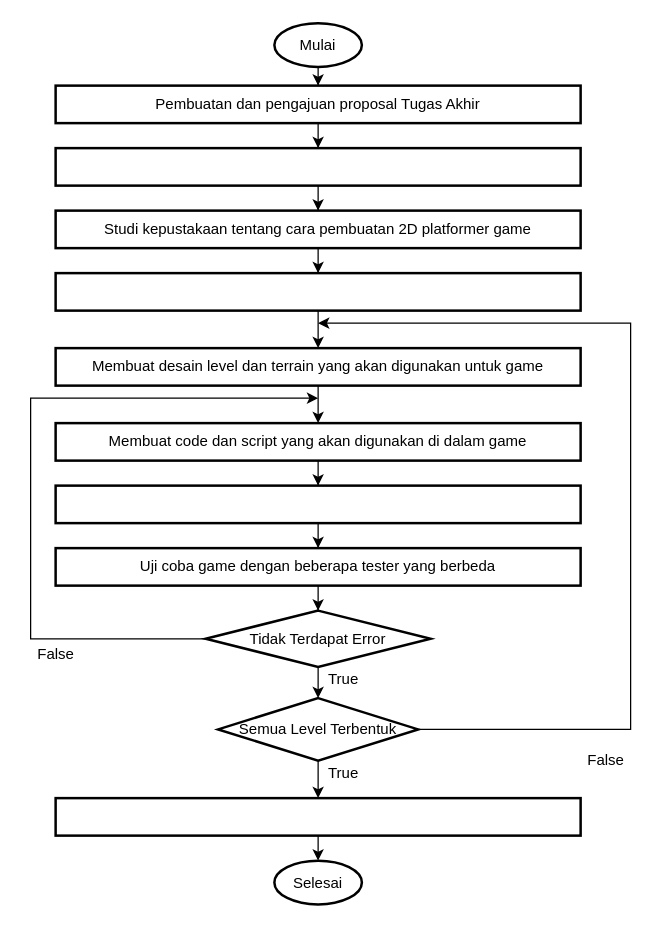
Image size: 663x926. Some labels were removed from this diagram. Each missing label, with the centre of its shape:
"Mendokumentasi seluruh proses pada buku laporan tugas akhir" belongs at [317,816].
"Mengumpulkan referensi–referensi Unreal Engine 4" belongs at [317,166].
"Mengumpulkan spritedan resource untuk pembuatan game." belongs at [317,291].
"Uji coba game pada PC dan laptop dengan Windows Operating System" belongs at [317,504].
